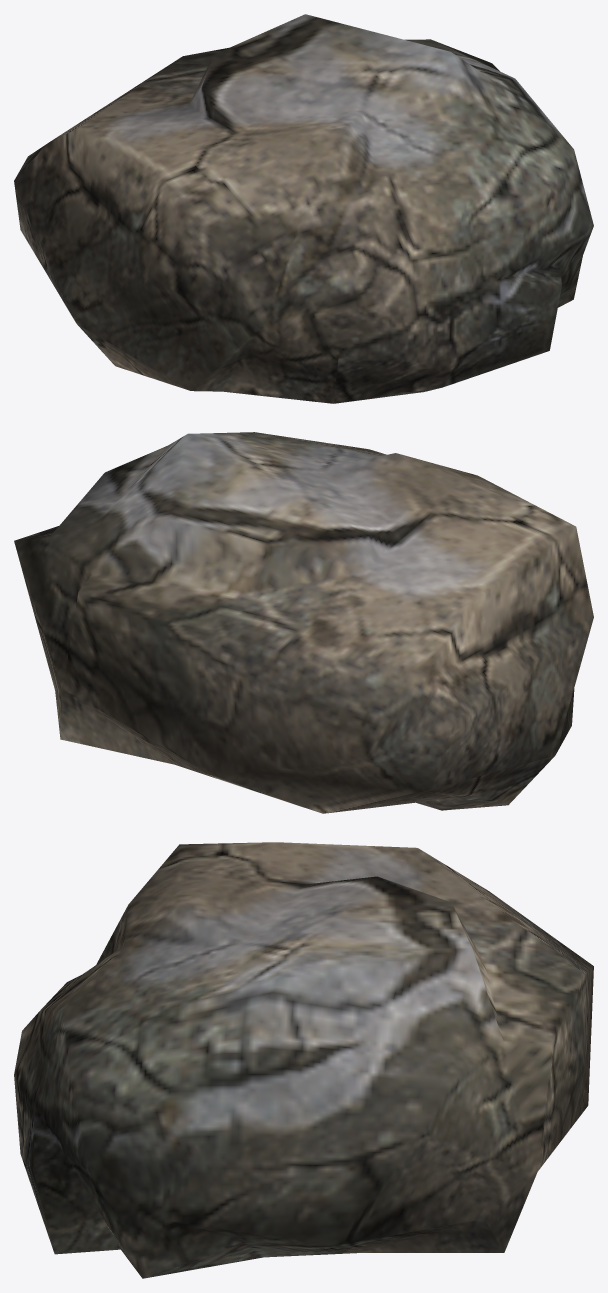
The model's file is Rock5B.FBX.
3 views of the same model, one above another, from view 1: azimuth 30°, elevation 25°; view 2: azimuth 150°, elevation 25°; view 3: azimuth 270°, elevation 25° (orthographic). The views are drawn at different scales.
Parts seen in each view (by area): view 1: Rock5B; view 2: Rock5B; view 3: Rock5B.
Part boxes in pixels (x1=…): Rock5B: x1=14, y1=14, x2=593, y2=403; Rock5B: x1=14, y1=432, x2=593, y2=813; Rock5B: x1=14, y1=842, x2=593, y2=1278.
Size of the model in its own units: 1.88 by 0.98 by 1.71.
